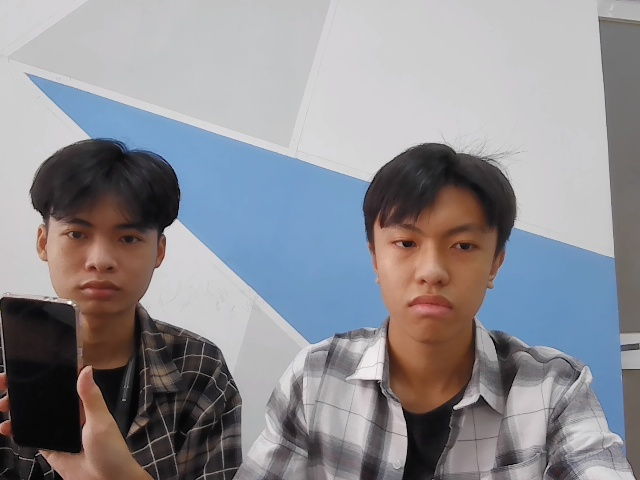human: (348, 139, 523, 343), (31, 147, 180, 305)
phone: (2, 292, 84, 461)
